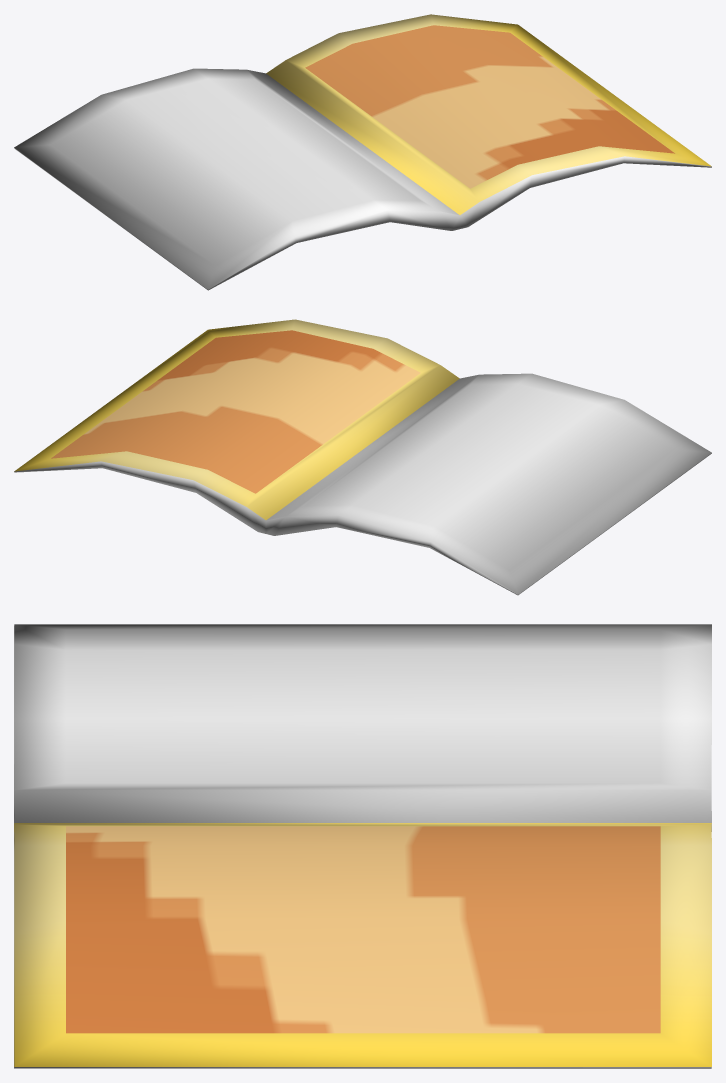
The model's file is Magazine_Open_default.fbx.
3 renders of one model, top to bottom at view 1: azimuth 30°, elevation 25°; view 2: azimuth 150°, elevation 25°; view 3: azimuth 270°, elevation 25°, orthographic. The views are drawn at different scales.
Visible parts, largest first — view 1: Magazine_Open.default; view 2: Magazine_Open.default; view 3: Magazine_Open.default.
Part boxes in pixels (bbox=[...]): Magazine_Open.default: bbox=[14, 14, 711, 290]; Magazine_Open.default: bbox=[14, 319, 711, 595]; Magazine_Open.default: bbox=[14, 624, 711, 1068].
Bounding box in the file's own units: 74.22 × 5.1 × 49.48.
